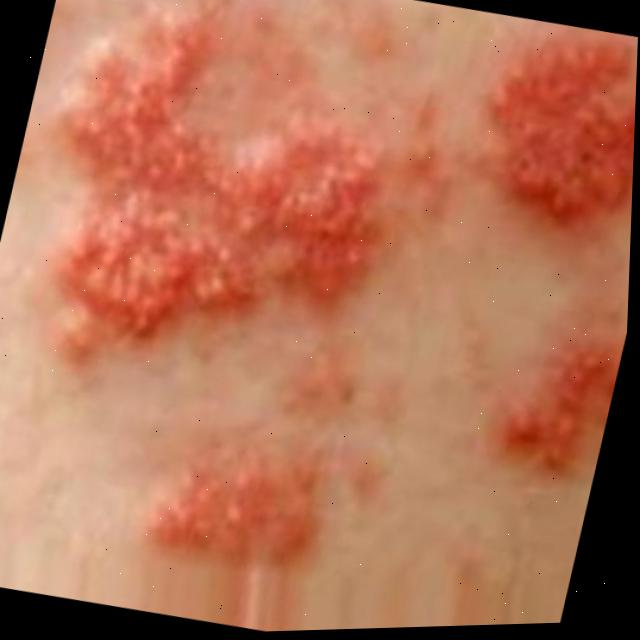Shingles: (35, 34, 399, 358), (464, 22, 638, 229), (153, 433, 326, 588), (491, 329, 624, 480)
